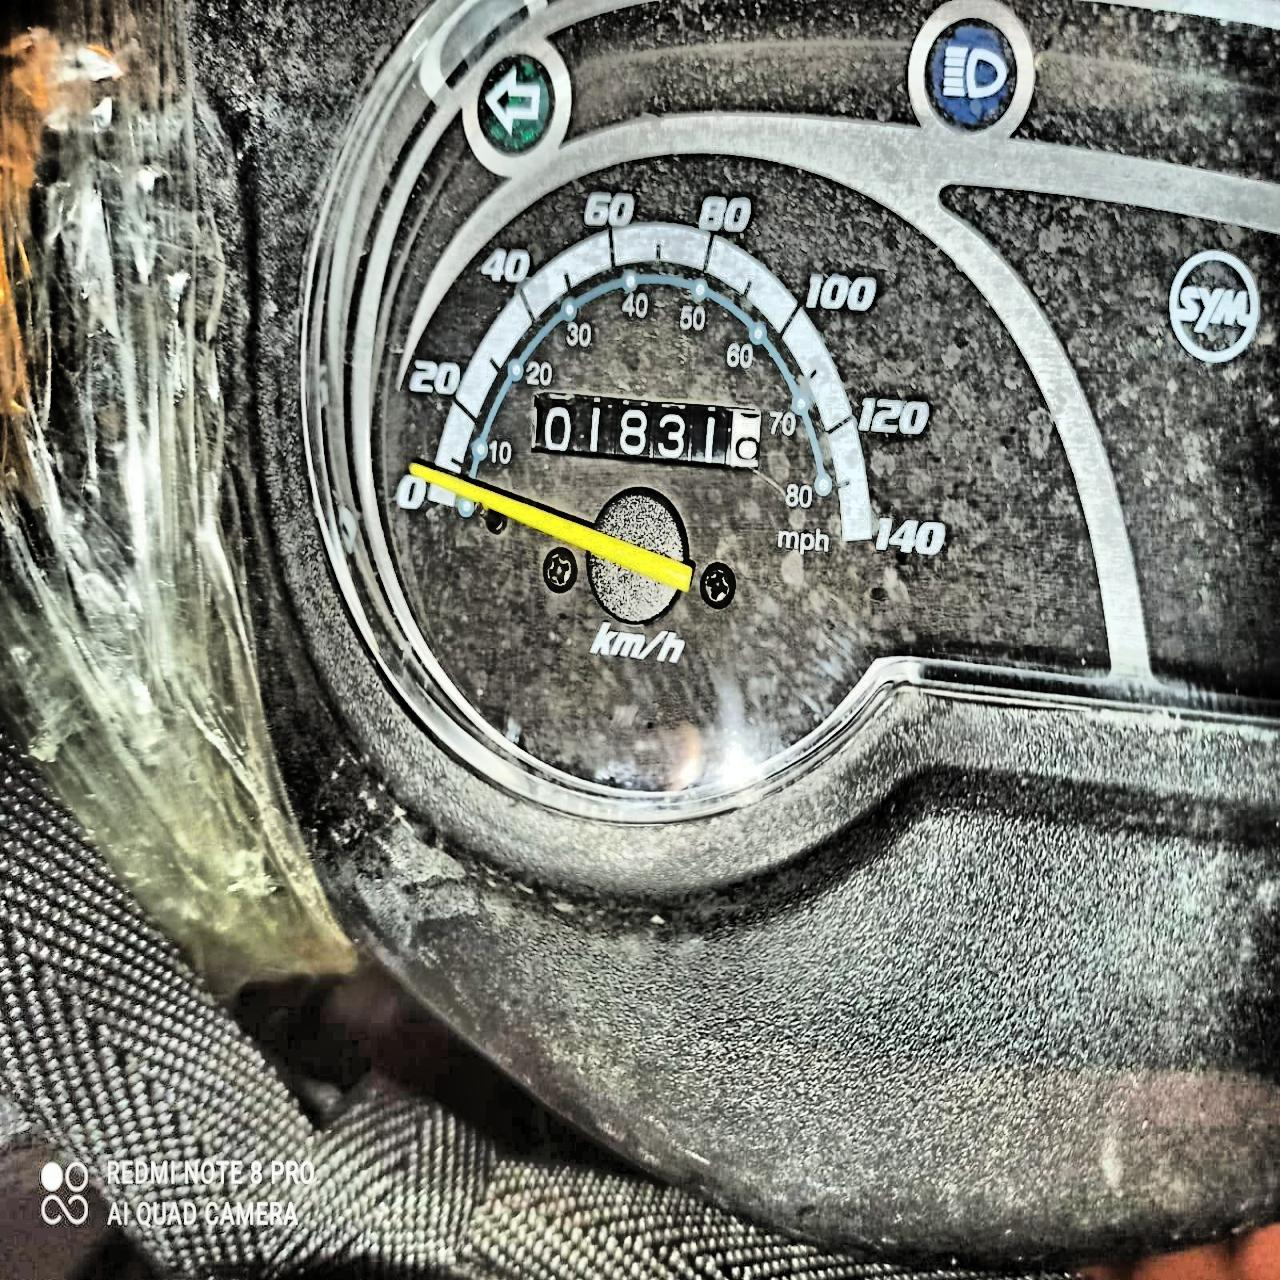0: (542, 401, 572, 455)
1: (586, 400, 602, 459), (701, 409, 715, 472)
3: (657, 410, 686, 467)
8: (617, 404, 649, 458)
9: (733, 430, 763, 480)
odometer: (520, 386, 770, 494)
